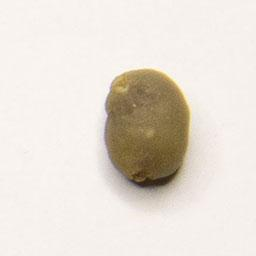peaberry: (100, 62, 195, 189)
